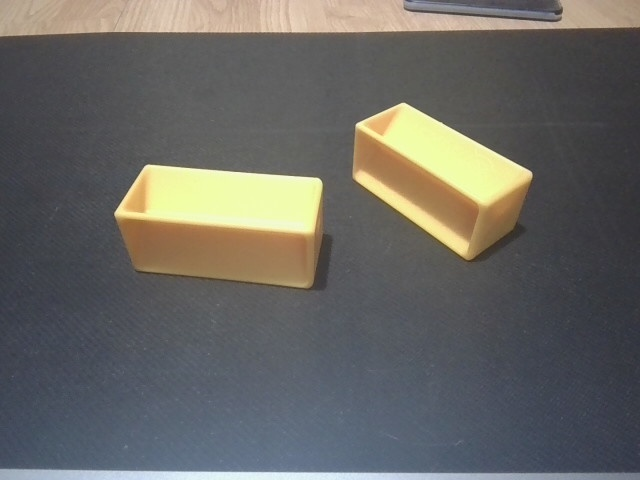YellowSample: (345, 100, 535, 263), (111, 157, 327, 296)
